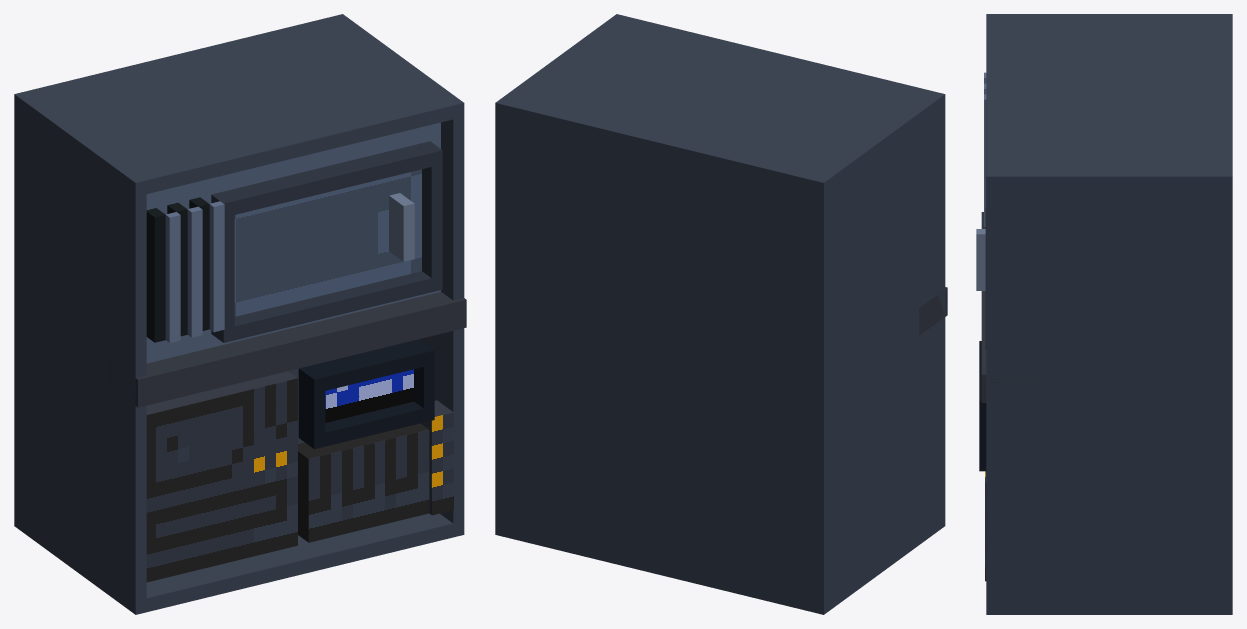
The model's file is CMU3DTelecomServerCloud.glb.
The picture shows the model from 3 angles, left to right: view 1: azimuth 30°, elevation 25°; view 2: azimuth 150°, elevation 25°; view 3: azimuth 270°, elevation 25°; orthographic projection.
Parts seen in each view (by area): view 1: full depth left chassis, cabinet roof, lower left module original face, upper recessed service panel recessed inset original face, middle chassis divider, three lower cartridge slots original face, full depth right chassis, lower cabinet chassis, upper service housing, upper recessed service panel upper frame, upper recessed service panel lower frame, blue status display upper frame (+17 smaller); view 2: rear cabinet wall, full depth left chassis, cabinet roof, full depth right chassis, middle chassis divider; view 3: full depth right chassis, cabinet roof, rear cabinet wall, full depth left chassis, middle chassis divider, service cover raised handle.
Boxes of the visible parts, box(x1,y1,x2,y2) form: full depth left chassis: box(14, 91, 146, 614); cabinet roof: box(33, 22, 453, 193); lower left module original face: box(146, 378, 297, 582); upper recessed service panel recessed inset original face: box(234, 169, 421, 316); middle chassis divider: box(110, 292, 466, 407); three lower cartridge slots original face: box(308, 429, 429, 542); full depth right chassis: box(332, 14, 464, 537); lower cabinet chassis: box(146, 513, 453, 611); upper service housing: box(146, 122, 440, 363); upper recessed service panel upper frame: box(211, 141, 442, 217); upper recessed service panel lower frame: box(211, 271, 442, 342); blue status display upper frame: box(298, 339, 434, 393); rear cabinet wall: box(506, 100, 819, 612); full depth left chassis: box(813, 91, 945, 614); cabinet roof: box(514, 16, 933, 174); full depth right chassis: box(495, 14, 626, 537); middle chassis divider: box(919, 287, 947, 335); full depth right chassis: box(986, 171, 1232, 614); cabinet roof: box(986, 19, 1218, 171); rear cabinet wall: box(1218, 19, 1232, 171); full depth left chassis: box(986, 14, 1232, 19); middle chassis divider: box(981, 212, 1039, 402); service cover raised handle: box(976, 229, 985, 290).
Bounding box in the file's own units: 0.9375 × 1.18 × 0.625.
16 materials, 5 textured.
